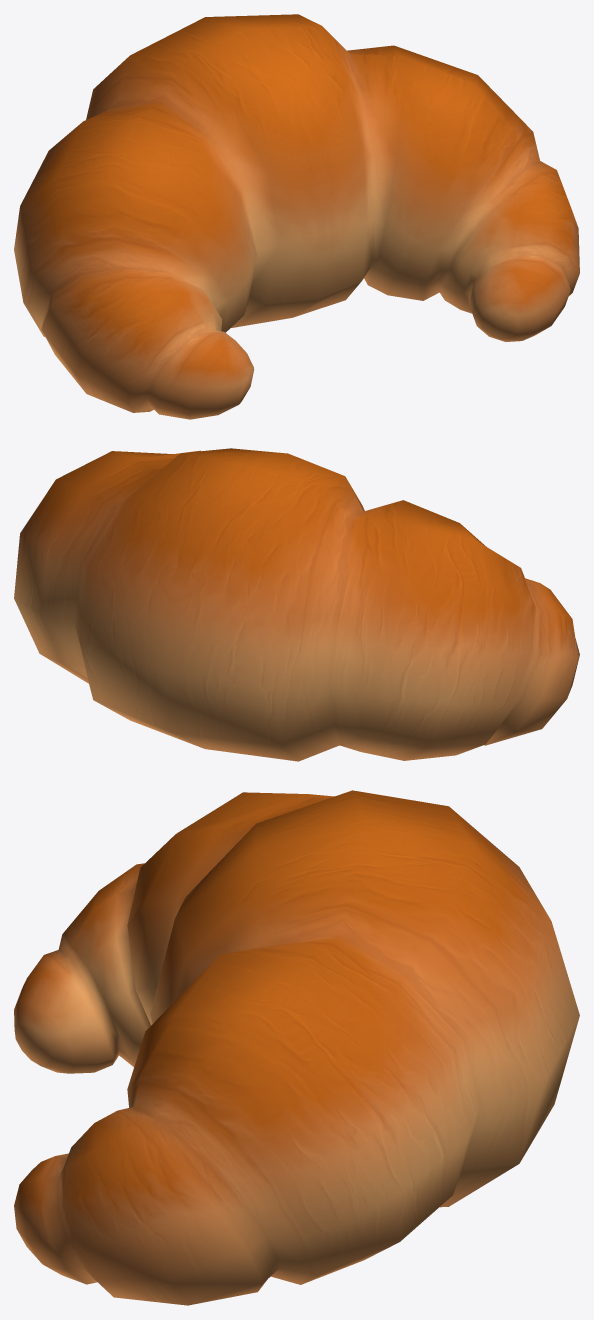
Rendered from pastries4.fbx.
3 renders of one model, top to bottom at view 1: azimuth 30°, elevation 25°; view 2: azimuth 150°, elevation 25°; view 3: azimuth 270°, elevation 25°, orthographic. The views are drawn at different scales.
Parts seen in each view (by area): view 1: pastries4; view 2: pastries4; view 3: pastries4.
Boxes of the visible parts, x1,y1,x2,y2 form: pastries4: (14,14,579,419); pastries4: (14,448,579,761); pastries4: (14,790,579,1305).
Size of the model in its own units: 9443 by 4877 by 7023.
Materials: 1 (1 with a texture image).
